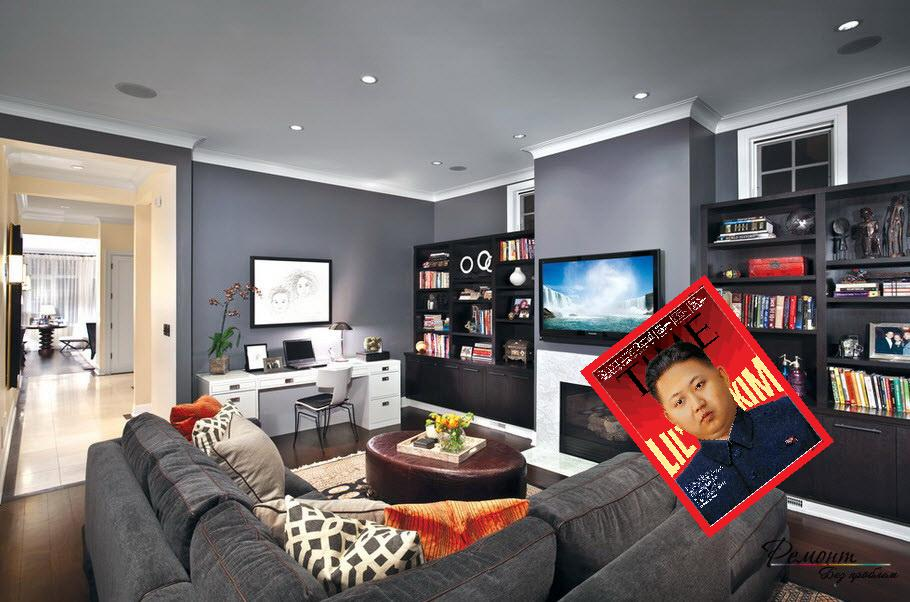times: (579, 272, 837, 538)
